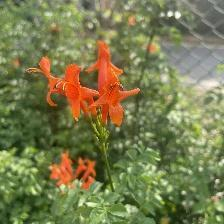honeysuckle: (89, 30, 142, 130)
